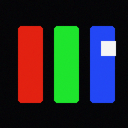1 square: (101, 41, 115, 55)
